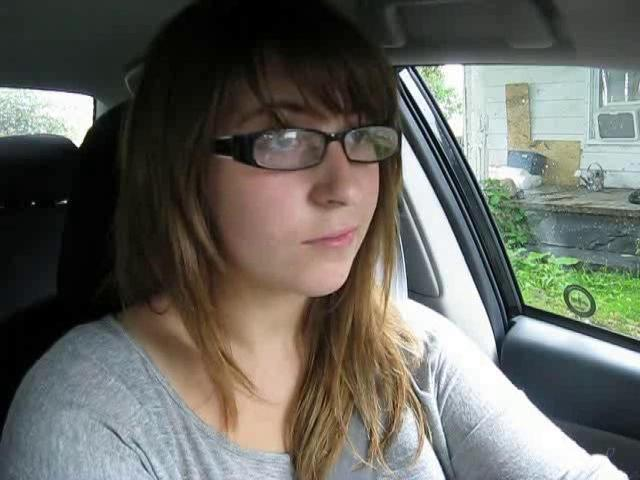eye_open: (253, 125, 314, 162), (344, 123, 382, 158)
face: (207, 96, 385, 299)
